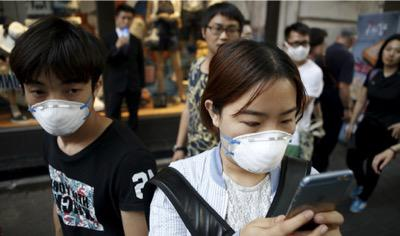with_mask: (218, 104, 296, 175), (25, 77, 91, 136), (285, 38, 311, 62)
without_mask: (205, 20, 239, 54), (382, 45, 399, 68), (113, 14, 133, 32)
